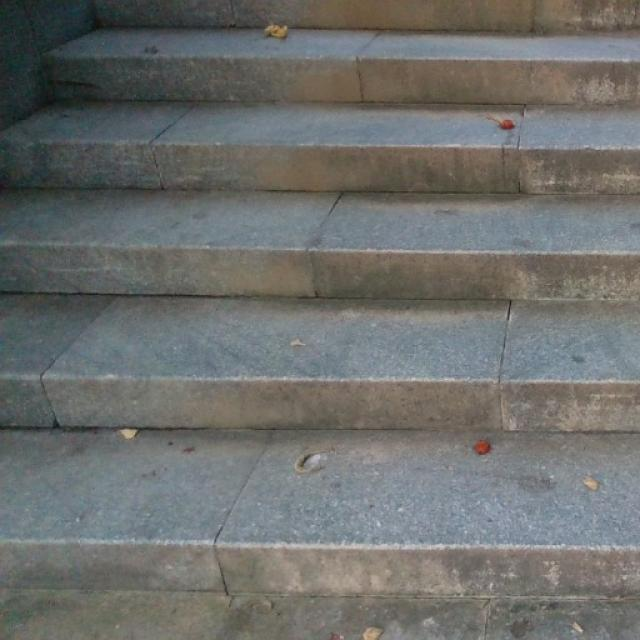Stairs: (0, 1, 639, 638)
